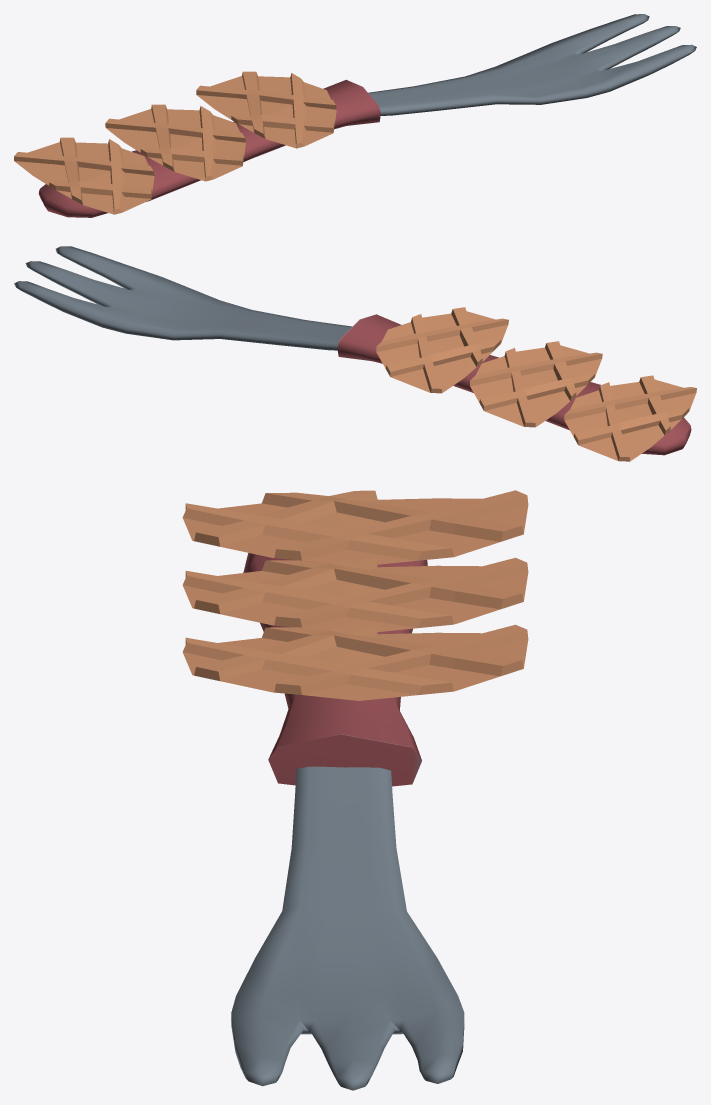
Rendered from SM_Fork.fbx.
3 views of the same model, one above another, from view 1: azimuth 30°, elevation 25°; view 2: azimuth 150°, elevation 25°; view 3: azimuth 270°, elevation 25° (orthographic). The views are drawn at different scales.
Parts seen in each view (by area): view 1: Plane.019, Plane.012, Plane.024, Plane.026, Plane.027; view 2: Plane.019, Plane.026, Plane.012, Plane.024, Plane.027; view 3: Plane.019, Plane.026, Plane.012, Plane.024, Plane.027.
Boxes of the visible parts, x1,y1,x2,y2 form: Plane.019: (368,14,696,115); Plane.012: (14,137,154,214); Plane.024: (105,104,245,181); Plane.026: (196,71,336,148); Plane.027: (38,79,380,217); Plane.019: (14,246,352,350); Plane.026: (376,307,508,393); Plane.012: (564,375,696,461); Plane.024: (470,341,602,427); Plane.027: (337,314,691,455); Plane.019: (231,766,464,1090); Plane.026: (182,624,528,700); Plane.012: (182,490,528,564); Plane.024: (182,557,528,631); Plane.027: (243,553,427,786).
Size of the model in its own units: 0.3732 by 0.0875 by 0.0304.
